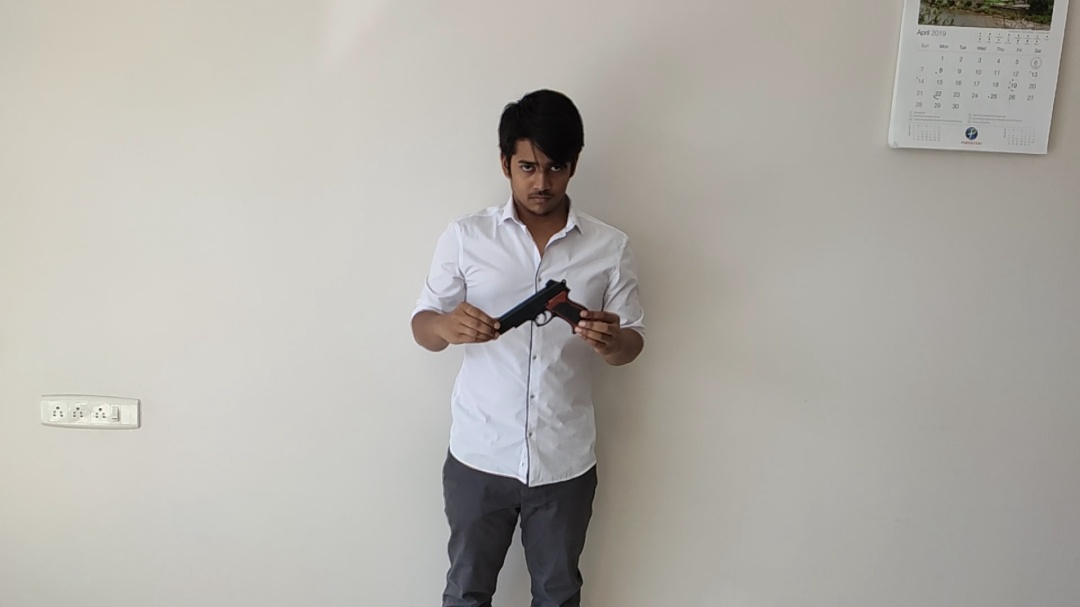gun: (495, 278, 585, 334)
